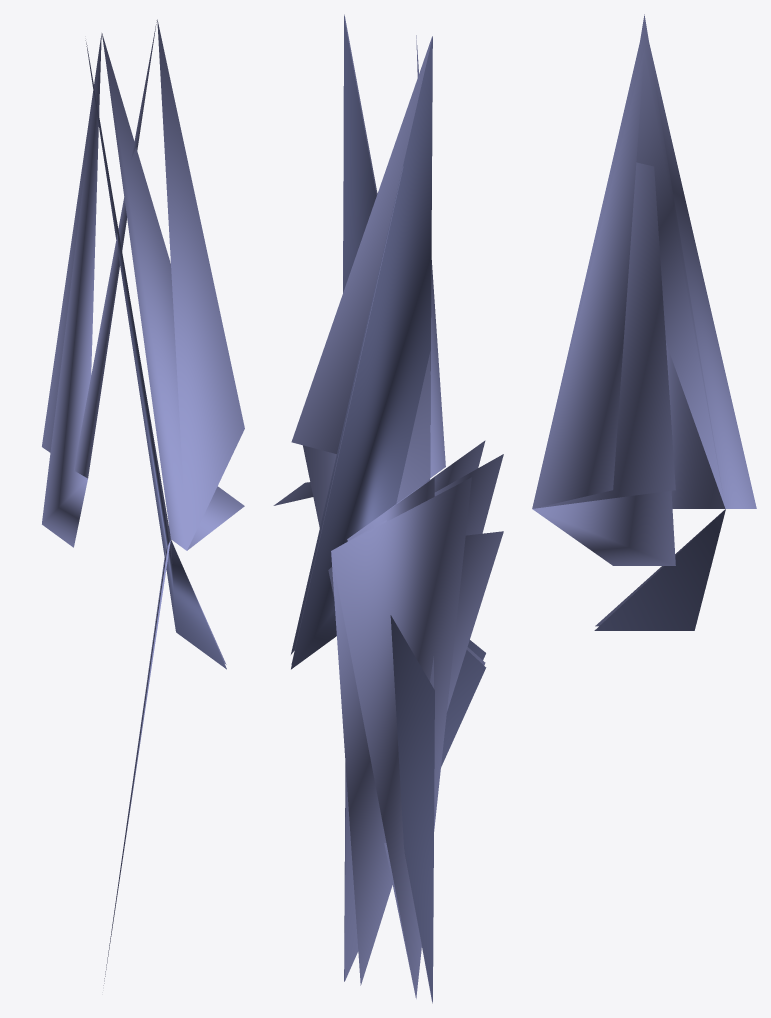
The model's file is equip_body_mithril_platebody.glb.
The picture shows the model from 3 angles, left to right: view 1: azimuth 30°, elevation 25°; view 2: azimuth 150°, elevation 25°; view 3: azimuth 270°, elevation 25°; orthographic projection. The views are drawn at different scales.
Visible parts, largest first — view 1: equip_body_mithril_platebody; view 2: equip_body_mithril_platebody; view 3: equip_body_mithril_platebody.
Boxes of the visible parts, <box> form: equip_body_mithril_platebody: <box>42,19,244,985</box>; equip_body_mithril_platebody: <box>273,14,503,1003</box>; equip_body_mithril_platebody: <box>532,14,756,630</box>.
Size of the model in its own units: 0.43 by 2 by 0.43.
